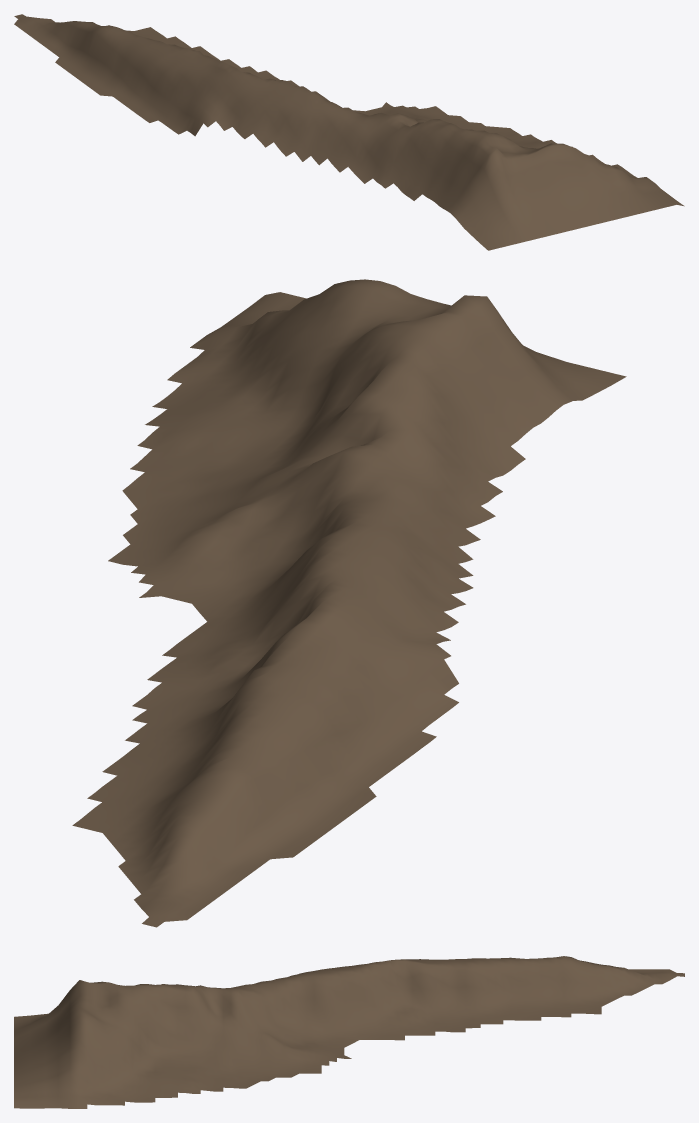
File: VannaIsland01.fbx
The picture shows the model from 3 angles, top to bottom: view 1: azimuth 30°, elevation 25°; view 2: azimuth 150°, elevation 25°; view 3: azimuth 270°, elevation 25°; orthographic projection. The views are drawn at different scales.
Parts seen in each view (by area): view 1: Vanna01Normalized; view 2: Vanna01Normalized; view 3: Vanna01Normalized.
Boxes of the visible parts, x1,y1,x2,y2 form: Vanna01Normalized: (14,14,684,250); Vanna01Normalized: (72,279,626,927); Vanna01Normalized: (14,956,684,1108).
Size of the model in its own units: 9102 by 1808 by 17760.
